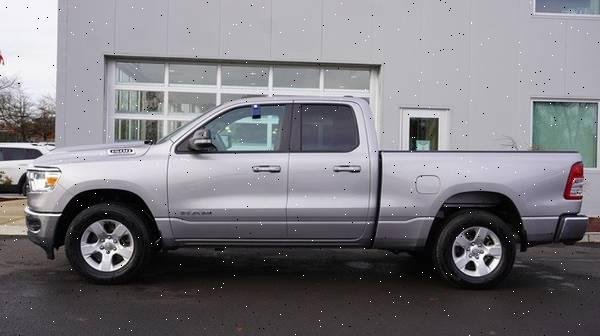Front_Bumper: (23, 208, 63, 257)
Front_Fender: (25, 145, 177, 249)
Front_Left_Door: (166, 150, 289, 243)
Front_Left_Window: (170, 95, 295, 151)
Hood: (34, 140, 150, 165)
Left_Headlight: (28, 166, 65, 195)
Left_Taillight: (564, 158, 586, 199)
Rear_Bumper: (557, 213, 590, 246)
Rear_Fender: (373, 151, 582, 245)
Rear_Left_Door: (287, 150, 379, 245)
Rear_Left_Window: (291, 95, 379, 152)
Wheel: (63, 200, 148, 281), (436, 209, 518, 286)
